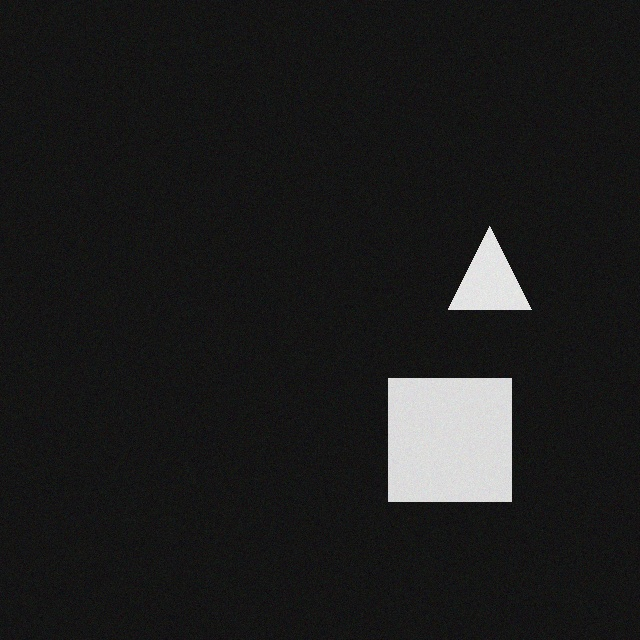square: (403, 381, 526, 504)
triangle: (463, 229, 546, 312)
